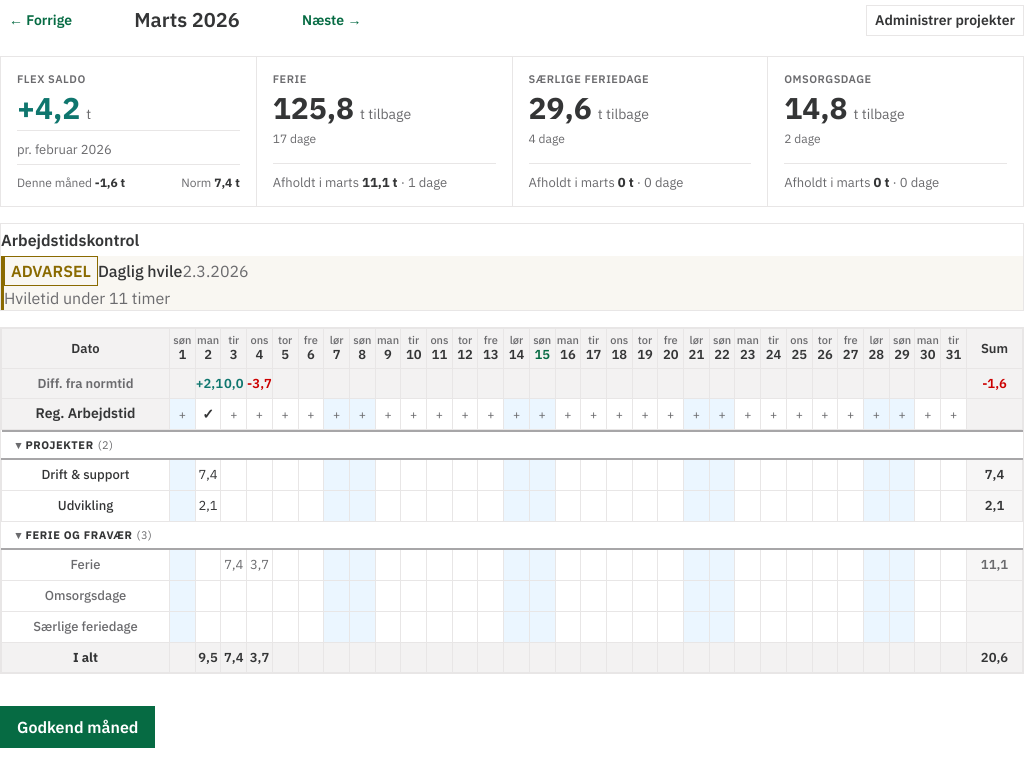
Test: SkemaPage — R11/R16 manager modal wiring › R11: the modal opens from the day panel step-2 link
Expected: the text "Drift & support" is shown, [2,459,170,490]
Expected: the cell does not show ""
Click the button named "Registrér arbejdstid 2026-03-02". click: point(208, 414)
box: [196,399,220,429]
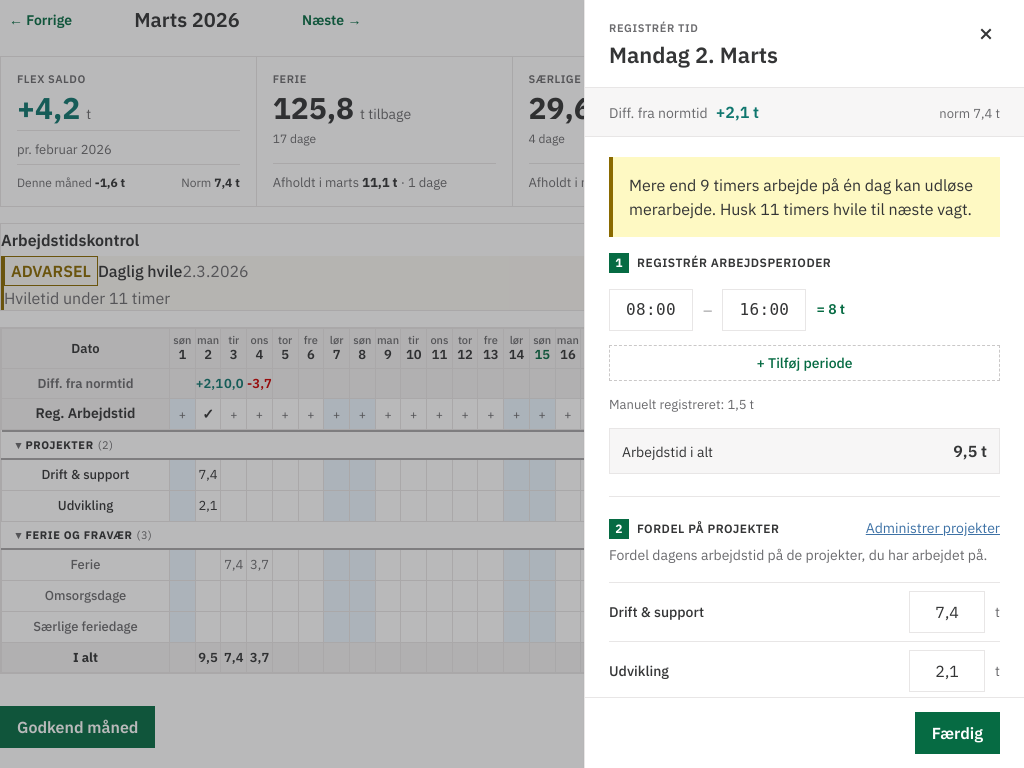
Click the button "Administrer projekter". click: point(933, 528)
box: [866,519,1000,537]
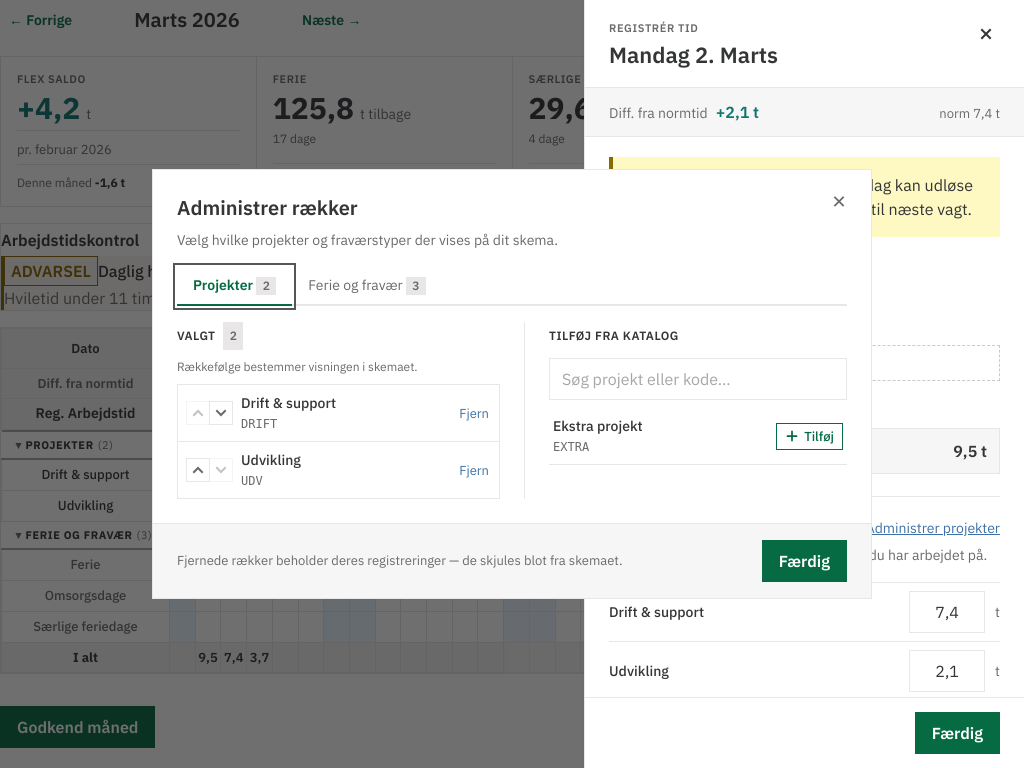
Result: the heading "Administrer rækker" is shown at [177,194,358,221]
